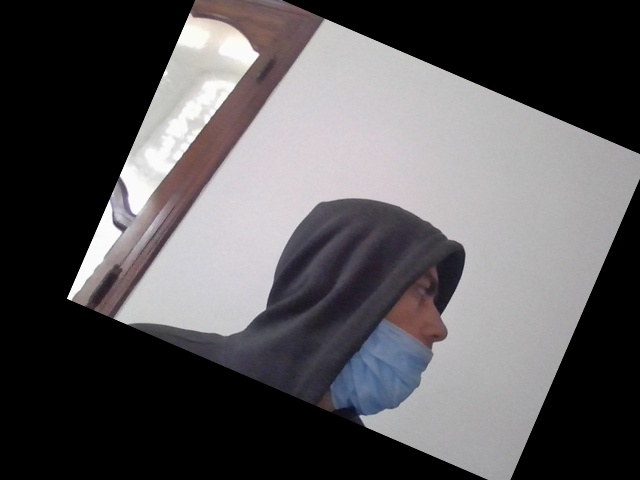mask_weared_incorrect: (329, 247, 459, 423)
